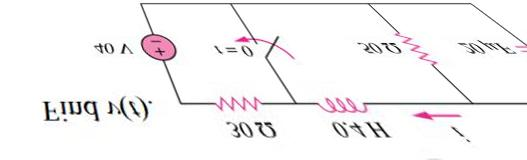inductor: (311, 89, 379, 119)
